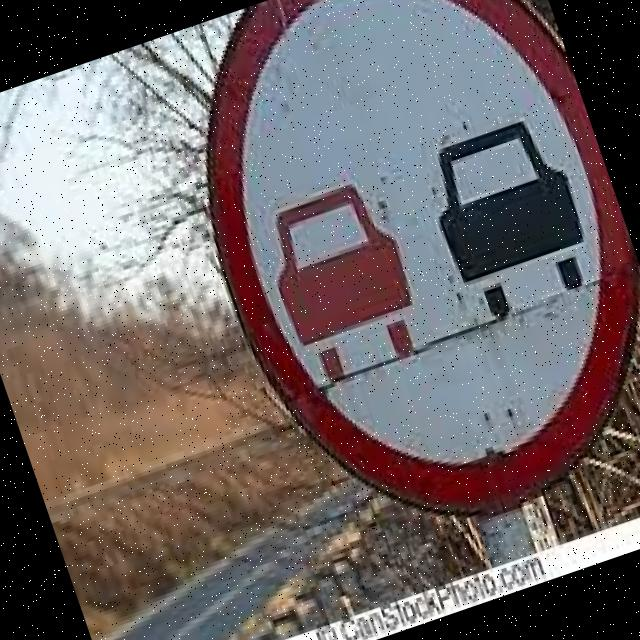no_passing: (133, 0, 640, 573)
